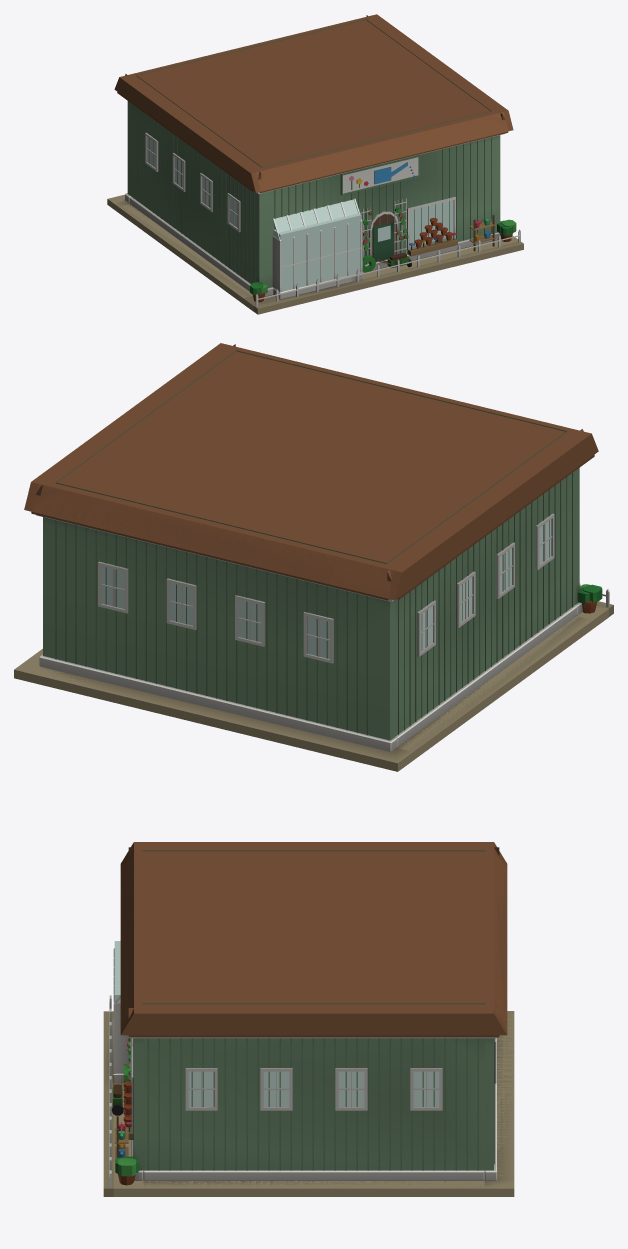
The model's file is CanScorpionFloor.fbx.
The picture shows the model from 3 angles, top to bottom: view 1: azimuth 30°, elevation 25°; view 2: azimuth 150°, elevation 25°; view 3: azimuth 270°, elevation 25°; orthographic projection. The views are drawn at different scales.
Visible parts, largest first — view 1: GC_S_All, GC_F_Rings, GC_F_Smooth, GC_F_Glass, GC_F_Quiet, GC_F_Props; view 2: GC_S_All, GC_F_Rings, GC_F_Smooth, GC_F_Quiet, GC_F_Glass; view 3: GC_S_All, GC_F_Rings, GC_F_Smooth, GC_F_Quiet, GC_F_Glass, GC_F_Props.
Boxes of the visible parts, x1,y1,x2,y2 form: GC_S_All: (107,14,518,311); GC_F_Rings: (117,15,508,292); GC_F_Smooth: (117,92,523,314); GC_F_Glass: (147,137,453,291); GC_F_Quiet: (115,199,523,308); GC_F_Props: (250,218,516,302); GC_S_All: (14,343,608,771); GC_F_Rings: (31,344,594,751); GC_F_Smooth: (31,454,613,751); GC_F_Quiet: (15,601,613,763); GC_F_Glass: (101,519,551,658); GC_S_All: (113,842,514,1196); GC_F_Rings: (113,846,507,1180); GC_F_Smooth: (103,948,499,1196); GC_F_Quiet: (103,1011,513,1188); GC_F_Glass: (188,1071,439,1106); GC_F_Props: (112,1065,138,1185).
Bounding box in the file's own units: 60 × 20 × 60.
